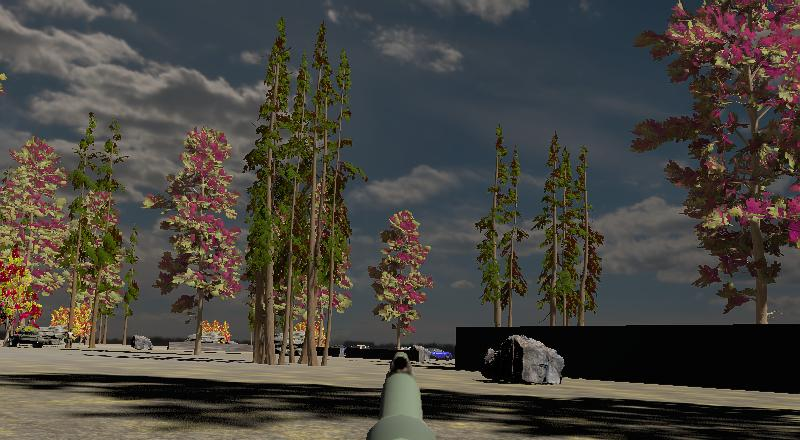Tank: (9, 329, 46, 348)
car: (426, 347, 454, 363), (426, 346, 454, 362)
